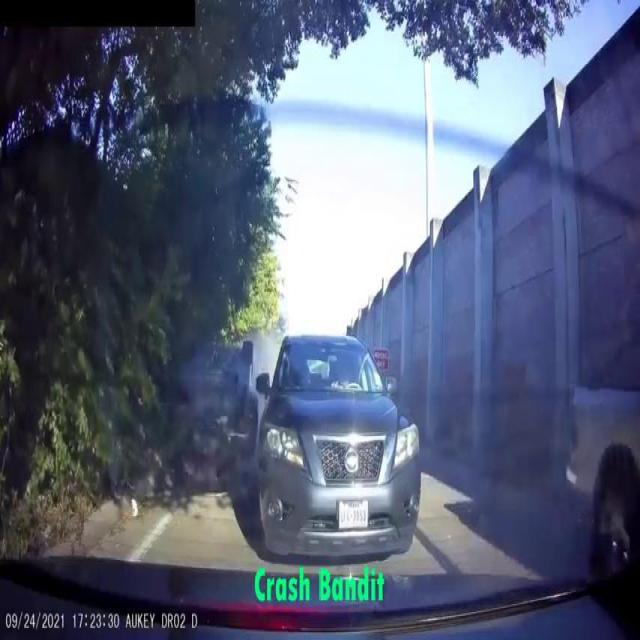severe: (168, 321, 261, 475)
